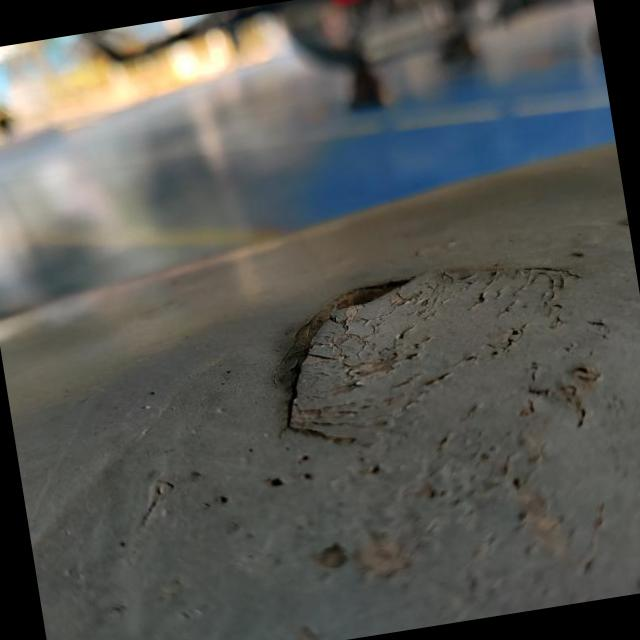Crack: (272, 260, 582, 453)
